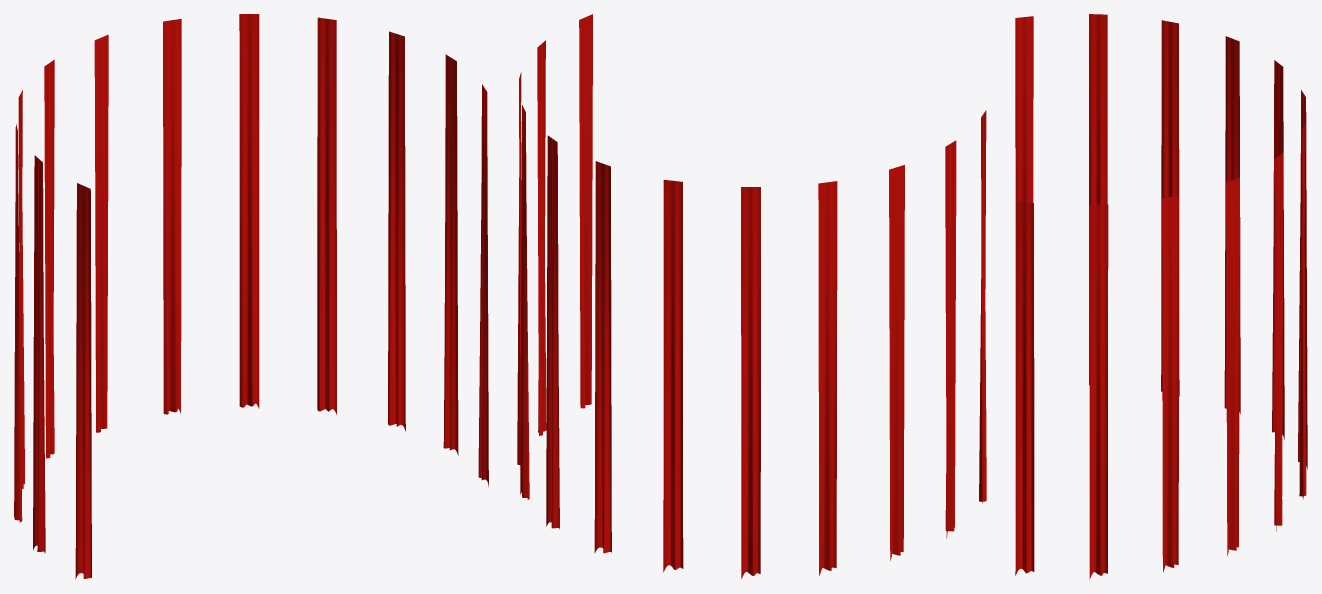
Rendered from Mesh_Curtains_Dome.fbx.
The picture shows the model from 3 angles, left to right: view 1: azimuth 30°, elevation 25°; view 2: azimuth 150°, elevation 25°; view 3: azimuth 270°, elevation 25°; orthographic projection. The views are drawn at different scales.
Parts seen in each view (by area): view 1: Telas_Interior_Colgantes; view 2: Telas_Interior_Colgantes; view 3: Telas_Interior_Colgantes.
Boxes of the visible parts, box(x1,y1,x2,y2) form: Telas_Interior_Colgantes: box(14, 14, 488, 578); Telas_Interior_Colgantes: box(517, 14, 986, 578); Telas_Interior_Colgantes: box(1015, 14, 1307, 579).
Size of the model in its own units: 2287 by 2073 by 1468.
